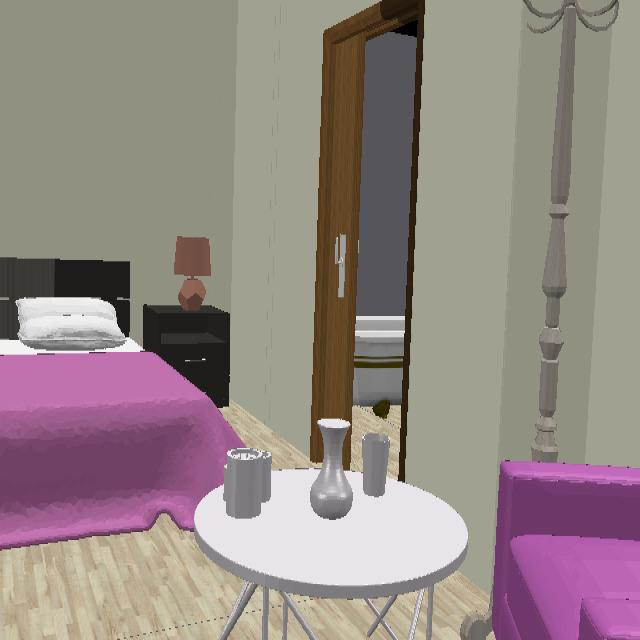bathtube: (354, 317, 405, 418)
bed: (0, 340, 242, 548)
nighttable: (144, 306, 230, 407)
pillow: (15, 297, 125, 349)
sofa: (495, 462, 640, 639)
table: (195, 470, 468, 639)
